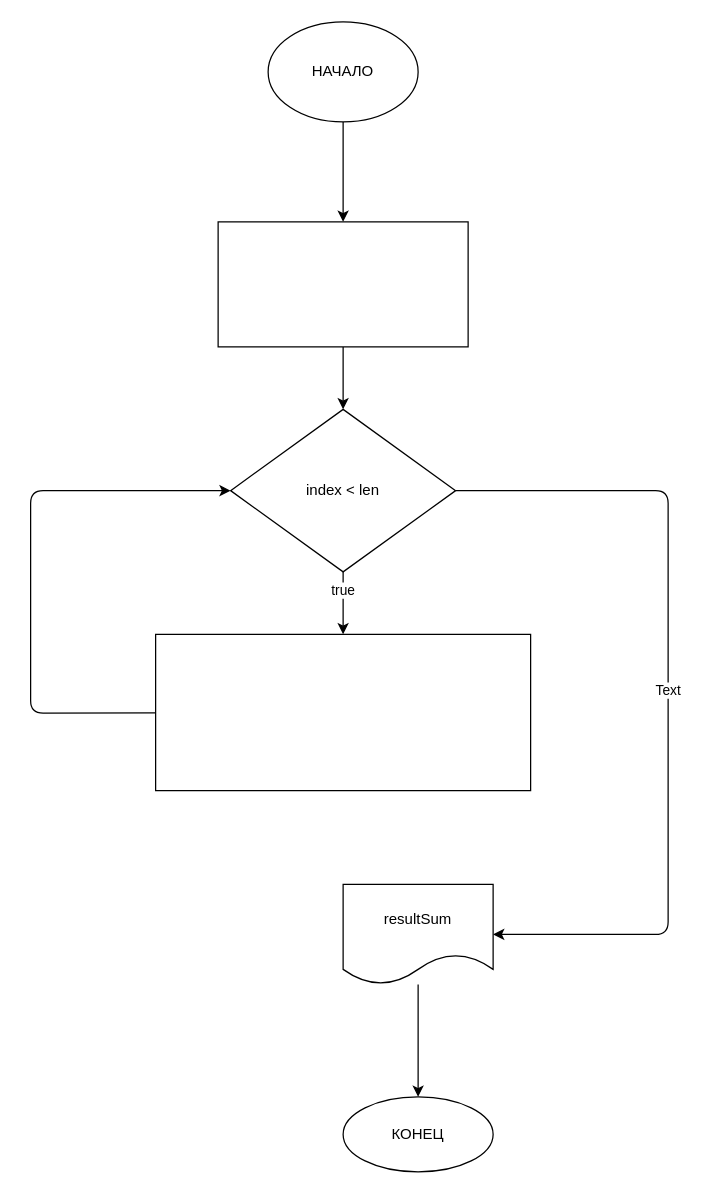
Image size: 701x1194. Some labels were removed from this diagram. The centre of each missing label's shape, as x and y in pixels:
"arrayInput len = Size(arrayInput) resultSum = 0 index = 0" goes at point 342,284.
"resultSum = resultSum + arrayInput[index] index+=1" goes at point 342,712.
